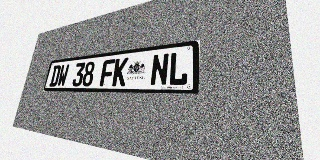3: (72, 62, 86, 86)
8: (81, 61, 96, 86)
D: (49, 65, 61, 87)
F: (99, 59, 115, 86)
K: (112, 57, 129, 86)
L: (168, 51, 189, 86)
N: (150, 53, 169, 86)
W: (57, 64, 70, 87)
